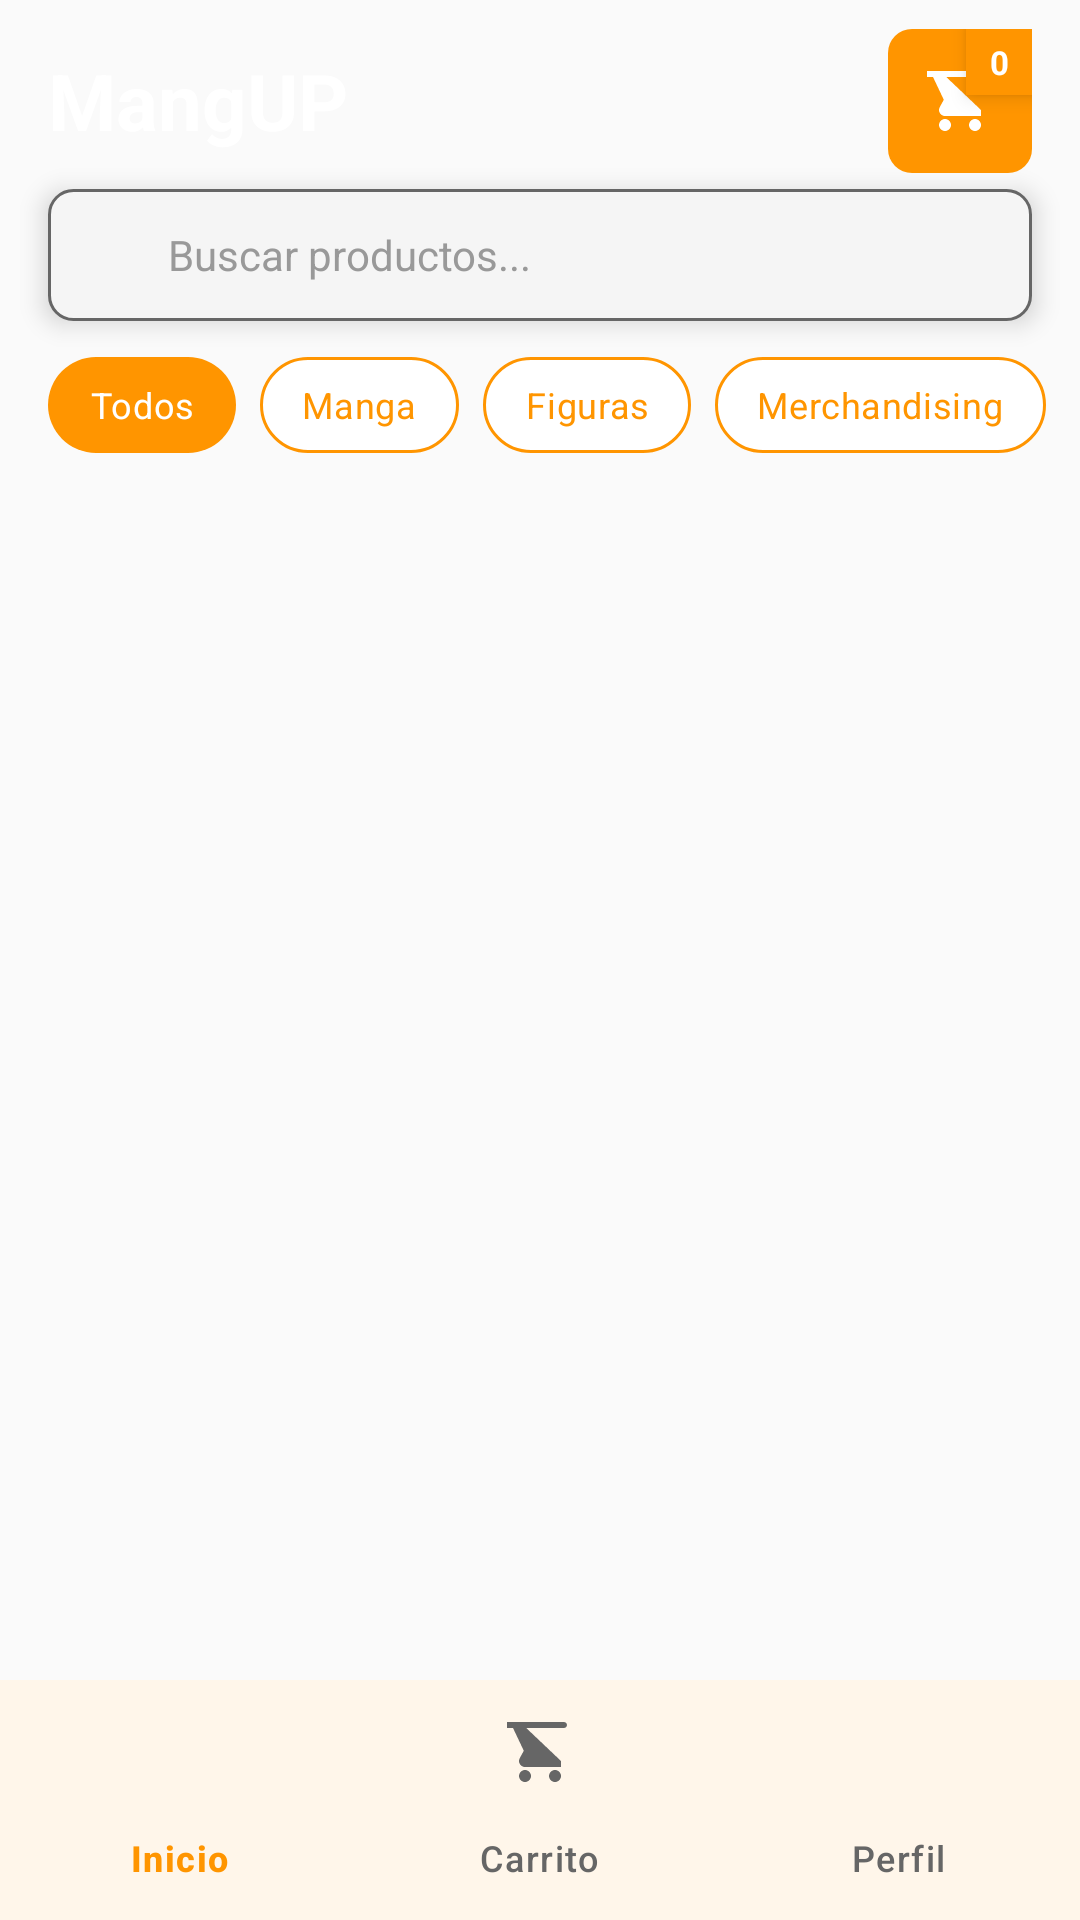

Icons on this 1080 × 1920 Android screen, each with its box as (x1, y1, x2, y2):
Carrito de compras: (888, 29, 1032, 173)
